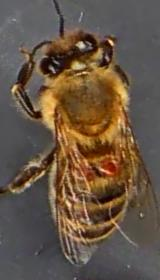varroa_mite: (91, 160, 128, 179)
